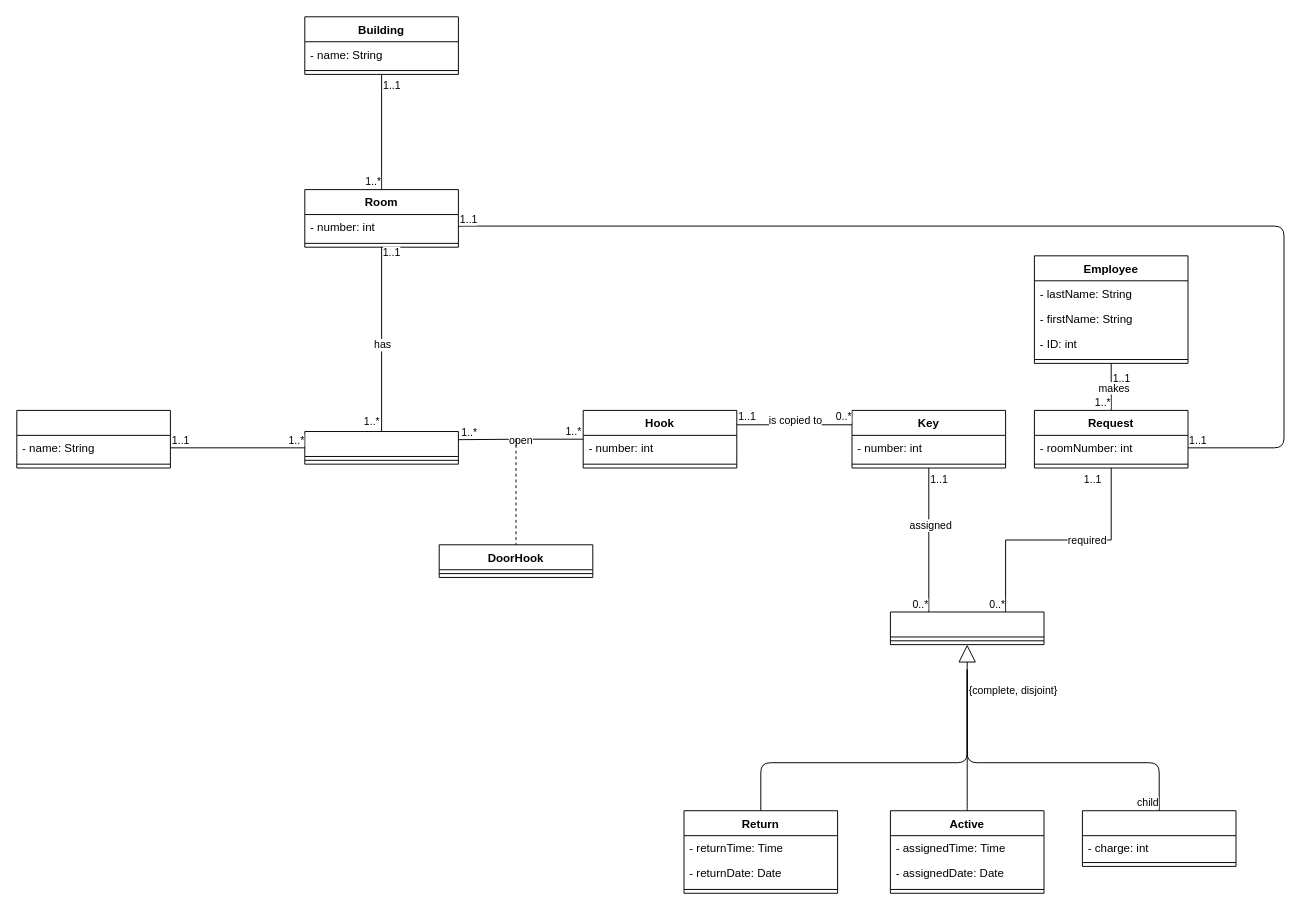
The diagram is 1302 pixels wide and 910 high, and some of its shapes have lost their labels. The shapes that lost their labels are listed below. From the top down, each one's box as (x1, y1, x2, y2) in pixels, then its label:
(16, 409, 170, 468): DoorName
(304, 431, 458, 464): Door
(889, 611, 1044, 645): Loan
(1081, 810, 1236, 866): Lost
